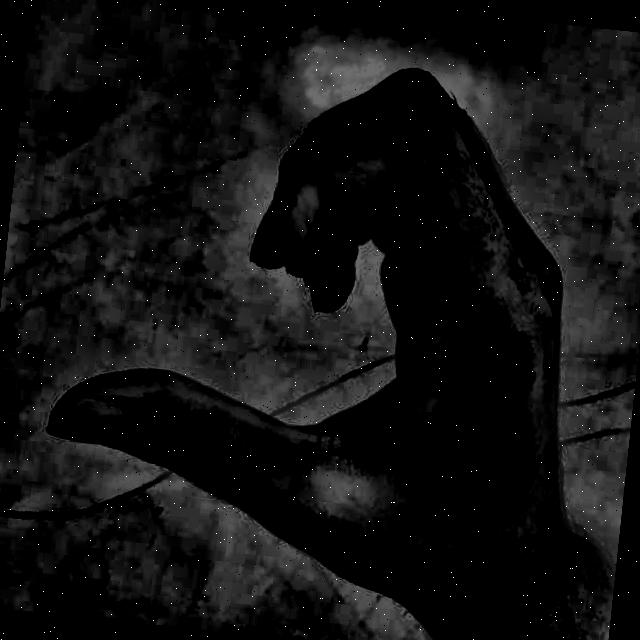Kha: (6, 0, 627, 640)
